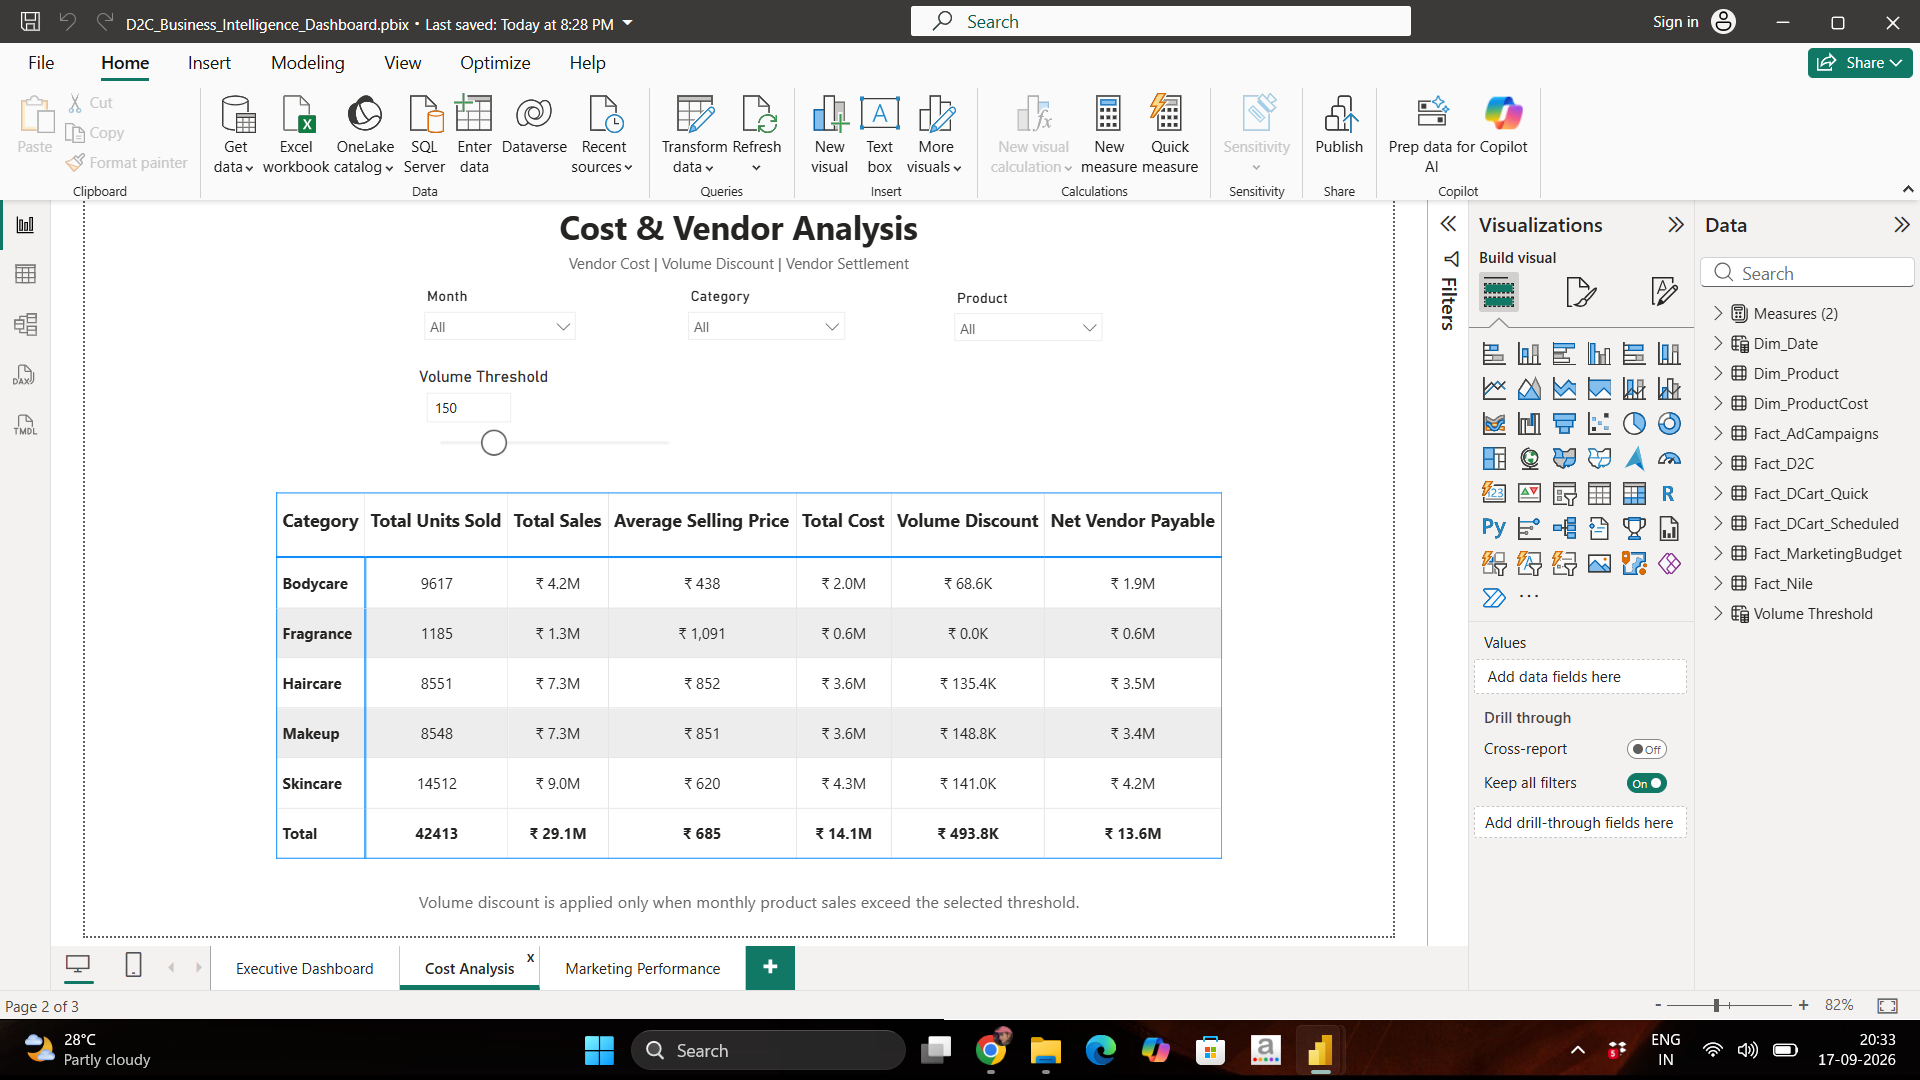

The page's visual inventory and layout, read from the dashboard file:
{"tool":"powerbi","page":{"name":"Cost Analysis","canvas":[1280,720],"ordinal":1},"visuals":[{"type":"slicer","title":"Volume Threshold","fields":{"Values":["Volume Threshold.Volume Threshold"]},"box":[321.2,163.8,272.5,117.5],"z":0},{"type":"pivotTable","fields":{"Rows":["Dim_Product.Category"],"Values":["Measures (2).Total Units Sold","Measures (2).Total Sales","Measures (2).Average Selling Price","Measures (2).Total Cost","Measures (2).Volume Discount","Measures (2).Net Vendor Payable"]},"box":[182.5,281.2,942.5,371.2],"z":1000},{"type":"textbox","box":[453.8,0,371.2,56.2],"z":2000},{"type":"textbox","box":[321.2,670,665,50],"z":3000},{"type":"textbox","box":[377.5,46.2,523.8,35],"z":4000},{"type":"slicer","fields":{"Values":["Dim_Date.Month Name"]},"box":[321.2,81.2,168.8,60],"z":5000},{"type":"slicer","fields":{"Values":["Dim_Product.Category"]},"box":[580,81.2,173.8,61.2],"z":6000},{"type":"slicer","fields":{"Values":["Dim_Product.Product_Name"]},"box":[840,82.5,165,60],"z":7000}]}

Visuals, with their boxes on the page's 1280x720 design canvas (x1, y1, x2, y2). These are canvas units, not pixel positions in the 1920x1080 screenshot, which may show the page scaled, cropped or inside an application window:
"Volume Threshold" slicer: [321, 164, 594, 281]
pivotTable - Dim_Product.Category x Measures (2).Total Units Sold: [182, 281, 1125, 652]
textbox: [454, 0, 825, 56]
textbox: [321, 670, 986, 720]
textbox: [378, 46, 901, 81]
slicer - Dim_Date.Month Name: [321, 81, 490, 141]
slicer - Dim_Product.Category: [580, 81, 754, 142]
slicer - Dim_Product.Product_Name: [840, 82, 1005, 142]
